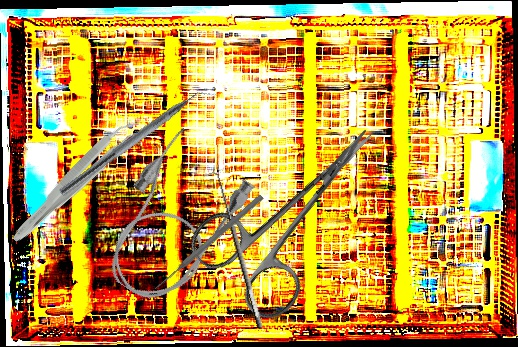Cannula: (84, 122, 261, 317)
Chopper: (58, 78, 219, 207)
Hook Surgical: (202, 166, 266, 333)
Iris Scissors: (181, 92, 416, 330)
Pusher: (152, 192, 265, 293)
Tissue Forceps: (6, 111, 148, 253)
